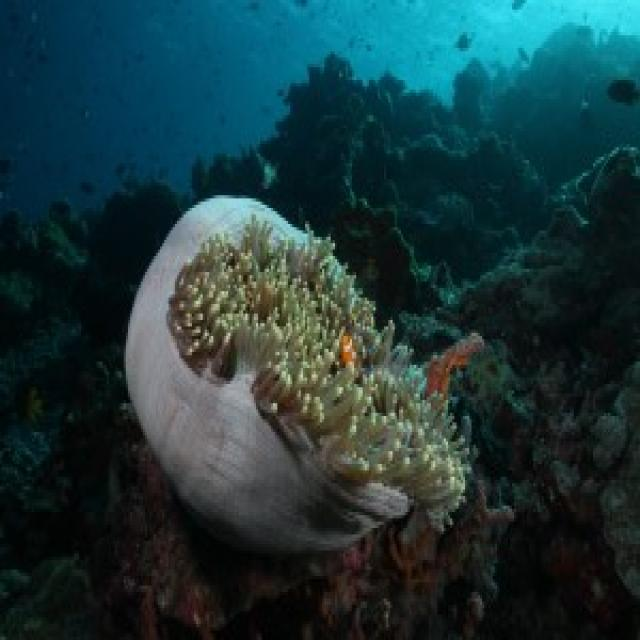Bleached: (127, 196, 481, 548)
